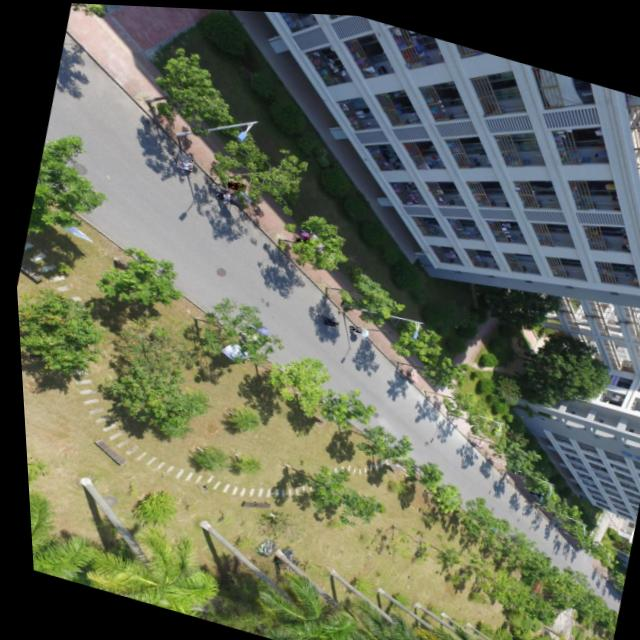Person: (172, 151, 192, 169), (286, 230, 305, 243), (223, 178, 243, 190), (211, 189, 229, 201), (318, 314, 335, 324), (344, 322, 361, 331), (500, 463, 515, 470), (242, 322, 253, 328), (522, 487, 533, 492), (607, 593, 613, 596)
